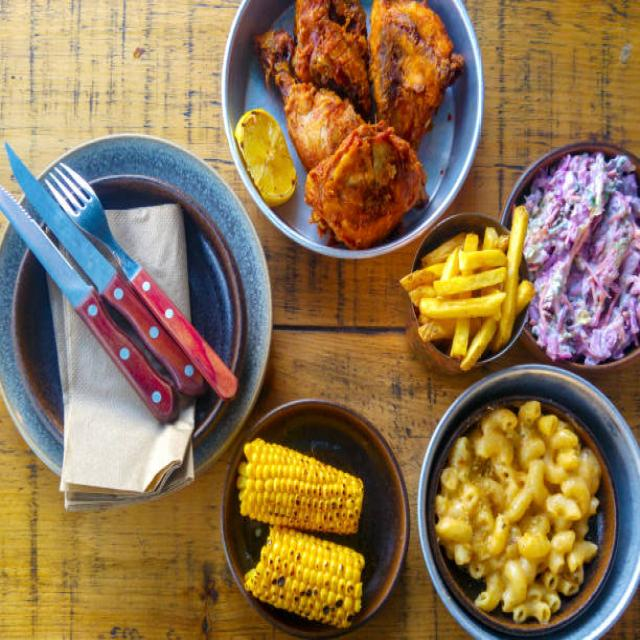Frango: (257, 0, 468, 251)
